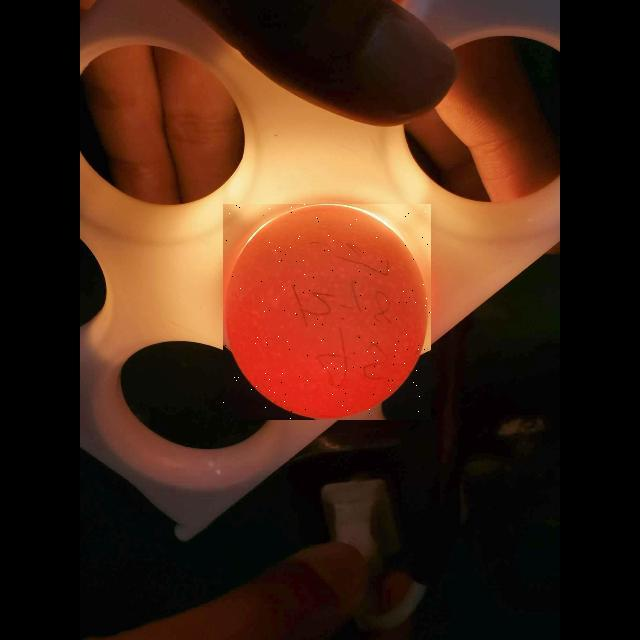Infertile: (223, 204, 431, 420)
